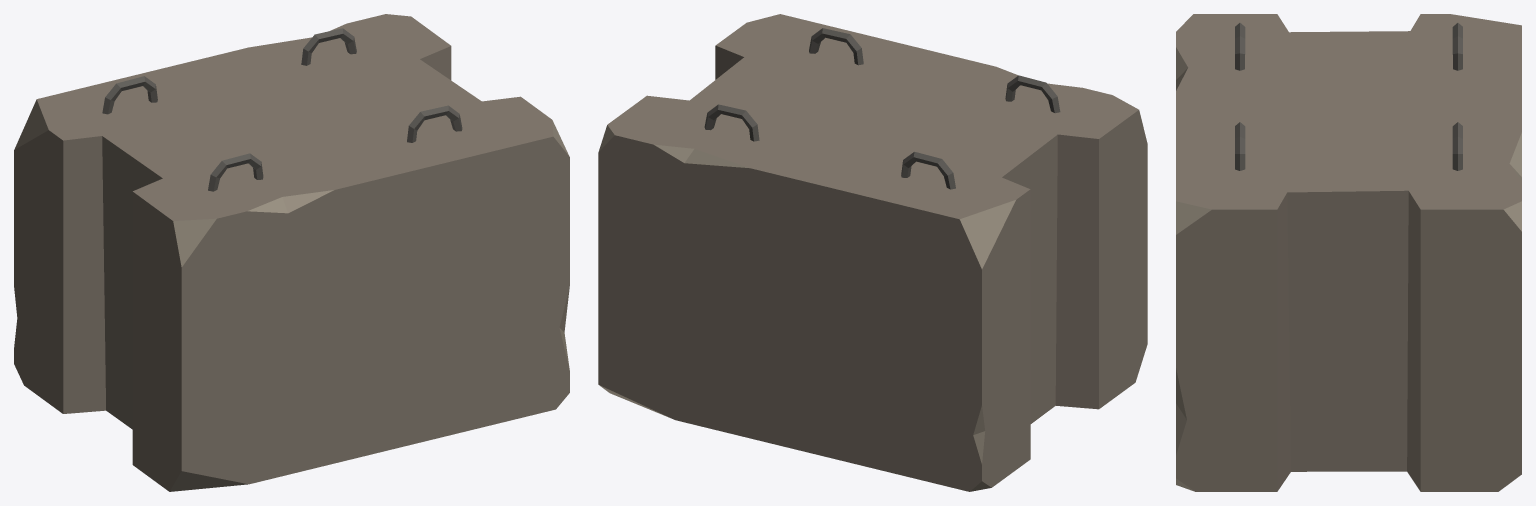
Rendered from SM_Prop_Concrete_Slab_03.fbx.
The picture shows the model from 3 angles, left to right: view 1: azimuth 30°, elevation 25°; view 2: azimuth 150°, elevation 25°; view 3: azimuth 270°, elevation 25°; orthographic projection. The views are drawn at different scales.
Visible parts, largest first — view 1: SM_Prop_Concrete_Slab_03; view 2: SM_Prop_Concrete_Slab_03; view 3: SM_Prop_Concrete_Slab_03.
Boxes of the visible parts, <box> form: SM_Prop_Concrete_Slab_03: <box>14,14,569,491</box>; SM_Prop_Concrete_Slab_03: <box>598,14,1147,491</box>; SM_Prop_Concrete_Slab_03: <box>1176,14,1521,491</box>.
Size of the model in its own units: 148 by 110 by 111.
